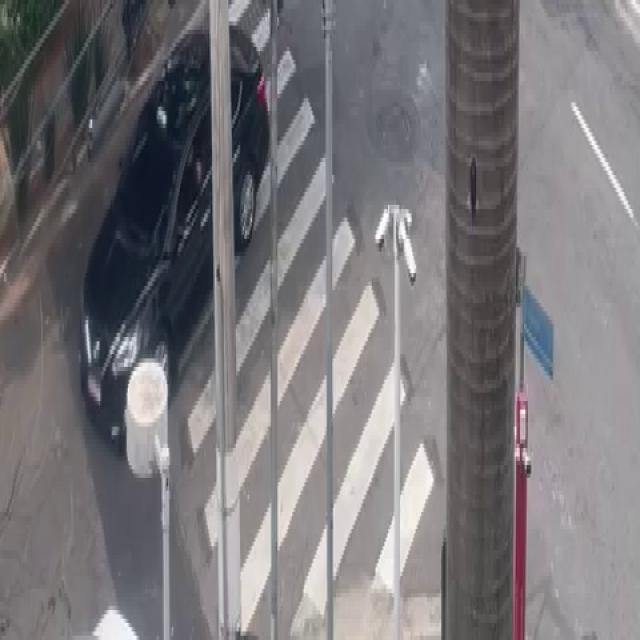car: (74, 13, 271, 430)
